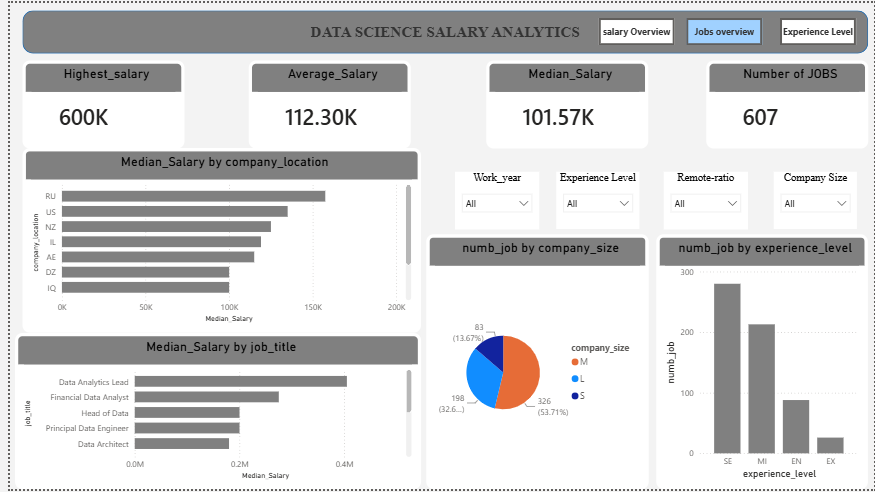

Layout of this report page (visuals, bound fields, positions):
{"tool":"powerbi","page":{"name":"Jobs overview","canvas":[1280,720],"ordinal":1},"visuals":[{"type":"cardVisual","title":"Average_Salary","fields":{"Data":["_measure.Average_Salary"]},"box":[353,85.4,240,130],"z":0},{"type":"cardVisual","title":"Median_Salary","fields":{"Data":["_measure.Median_Salary"]},"box":[706,85.4,240,130],"z":1000},{"type":"cardVisual","title":"Highest_salary","fields":{"Data":["_measure.Highest_Salary"]},"box":[18.8,85.4,240,130],"z":2000},{"type":"cardVisual","title":"Number of JOBS","fields":{"Data":["_measure.numb_job"]},"box":[1031.5,85.4,240,130],"z":3000},{"type":"clusteredBarChart","fields":{"Category":["Employment_Dim.job_title"],"Y":["_measure.Median_Salary"]},"box":[7.2,489,601.8,231.5],"z":4000},{"type":"clusteredColumnChart","fields":{"Category":["Employment_Dim.experience_level"],"Y":["_measure.numb_job"]},"box":[957.7,342.9,313.9,377.6],"z":5000},{"type":"clusteredBarChart","title":"Median_Salary by company_location ","fields":{"Category":["Company_Dim.company_location"],"Y":["_measure.Median_Salary"]},"box":[18.8,215.6,590.2,273.4],"z":6000},{"type":"slicer","title":"Work_year","fields":{"Values":["Fact.work_year"]},"box":[658.3,250,124.4,85.6],"z":7000},{"type":"slicer","title":"Remote-ratio","fields":{"Values":["Company_Dim.remote_ratio"]},"box":[968.3,250,124.4,85.6],"z":8000},{"type":"pieChart","fields":{"Category":["Company_Dim.company_size"],"Y":["_measure.numb_job"]},"box":[616.3,342.9,329.8,377.6],"z":9000},{"type":"shape","box":[18.8,11.6,1252.8,63.7],"z":10000},{"type":"actionButton","box":[1002.5,23.1,112.5,40.4],"z":11000},{"type":"actionButton","box":[1141.4,21.7,112.5,40.4],"z":12000},{"type":"actionButton","box":[872.3,21.7,112.5,40.4],"z":13000},{"type":"slicer","title":"Experience Level","fields":{"Values":["Employment_Dim.experience_level"]},"box":[810,250,123.3,85],"z":14000},{"type":"slicer","title":"Company Size","fields":{"Values":["Company_Dim.company_size"]},"box":[1131.7,250,123.3,85],"z":15000}]}

Visuals, with their boxes in screenshot pixels (x1, y1, x2, y2), scaled from the page's 1280x720 canvas onto the 875x492 screenshot:
"Average_Salary" cardVisual: [241, 58, 405, 147]
"Median_Salary" cardVisual: [483, 58, 647, 147]
"Highest_salary" cardVisual: [13, 58, 177, 147]
"Number of JOBS" cardVisual: [705, 58, 869, 147]
clusteredBarChart - Employment_Dim.job_title x _measure.Median_Salary: [5, 334, 416, 491]
clusteredColumnChart - Employment_Dim.experience_level x _measure.numb_job: [655, 234, 869, 491]
"Median_Salary by company_location " clusteredBarChart: [13, 147, 416, 334]
"Work_year" slicer: [450, 171, 535, 229]
"Remote-ratio" slicer: [662, 171, 747, 229]
pieChart - Company_Dim.company_size x _measure.numb_job: [421, 234, 647, 491]
shape: [13, 8, 869, 51]
actionButton: [685, 16, 762, 43]
actionButton: [780, 15, 857, 42]
actionButton: [596, 15, 673, 42]
"Experience Level" slicer: [554, 171, 638, 229]
"Company Size" slicer: [774, 171, 858, 229]
